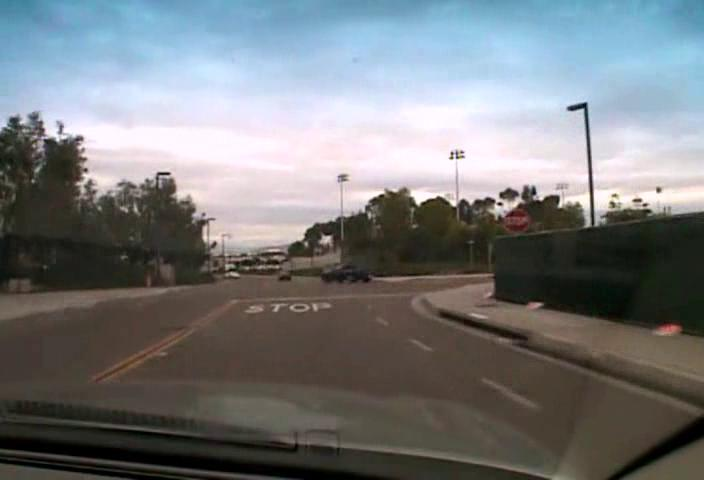stop: (503, 208, 530, 233)
